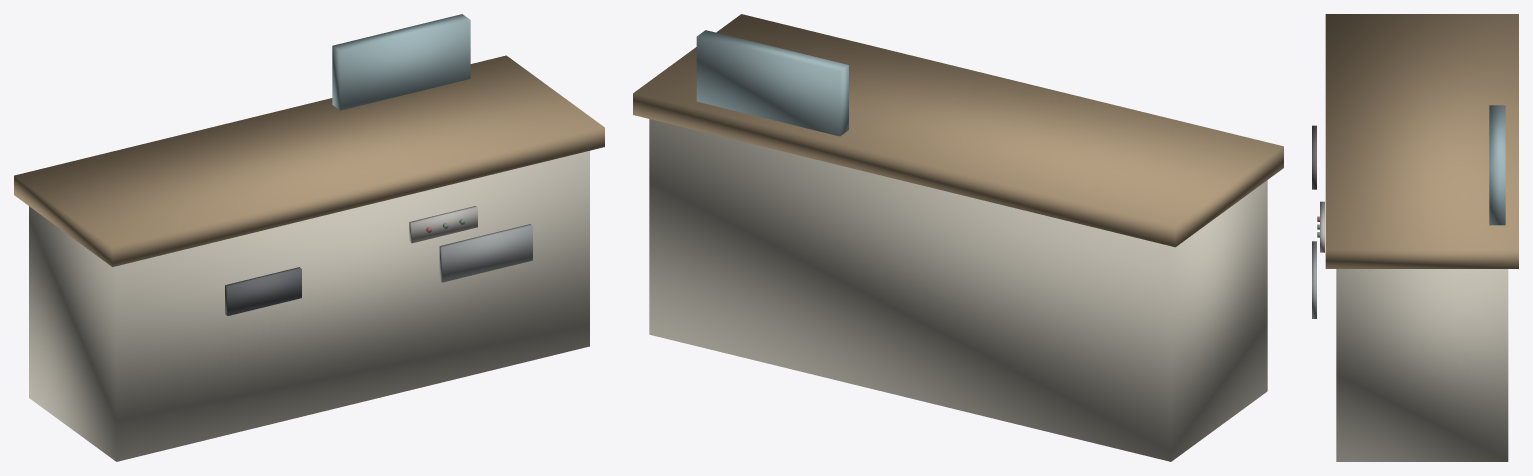
File: service_counter__weathered.glb
3 views of the same model, side by side, from view 1: azimuth 30°, elevation 25°; view 2: azimuth 150°, elevation 25°; view 3: azimuth 270°, elevation 25° (orthographic). The views are drawn at different scales.
Parts seen in each view (by area): view 1: world; view 2: world; view 3: world.
Part boxes in pixels (box(x1,y1,x2,y2)): world: box(14, 14, 604, 461); world: box(633, 14, 1283, 461); world: box(1312, 14, 1518, 461).
Bounding box in the file's own units: 2.08 × 1.13 × 0.7709.
